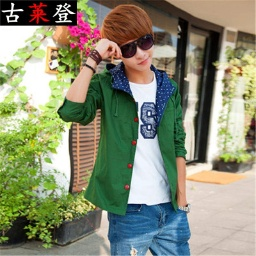face: (103, 4, 155, 71)
